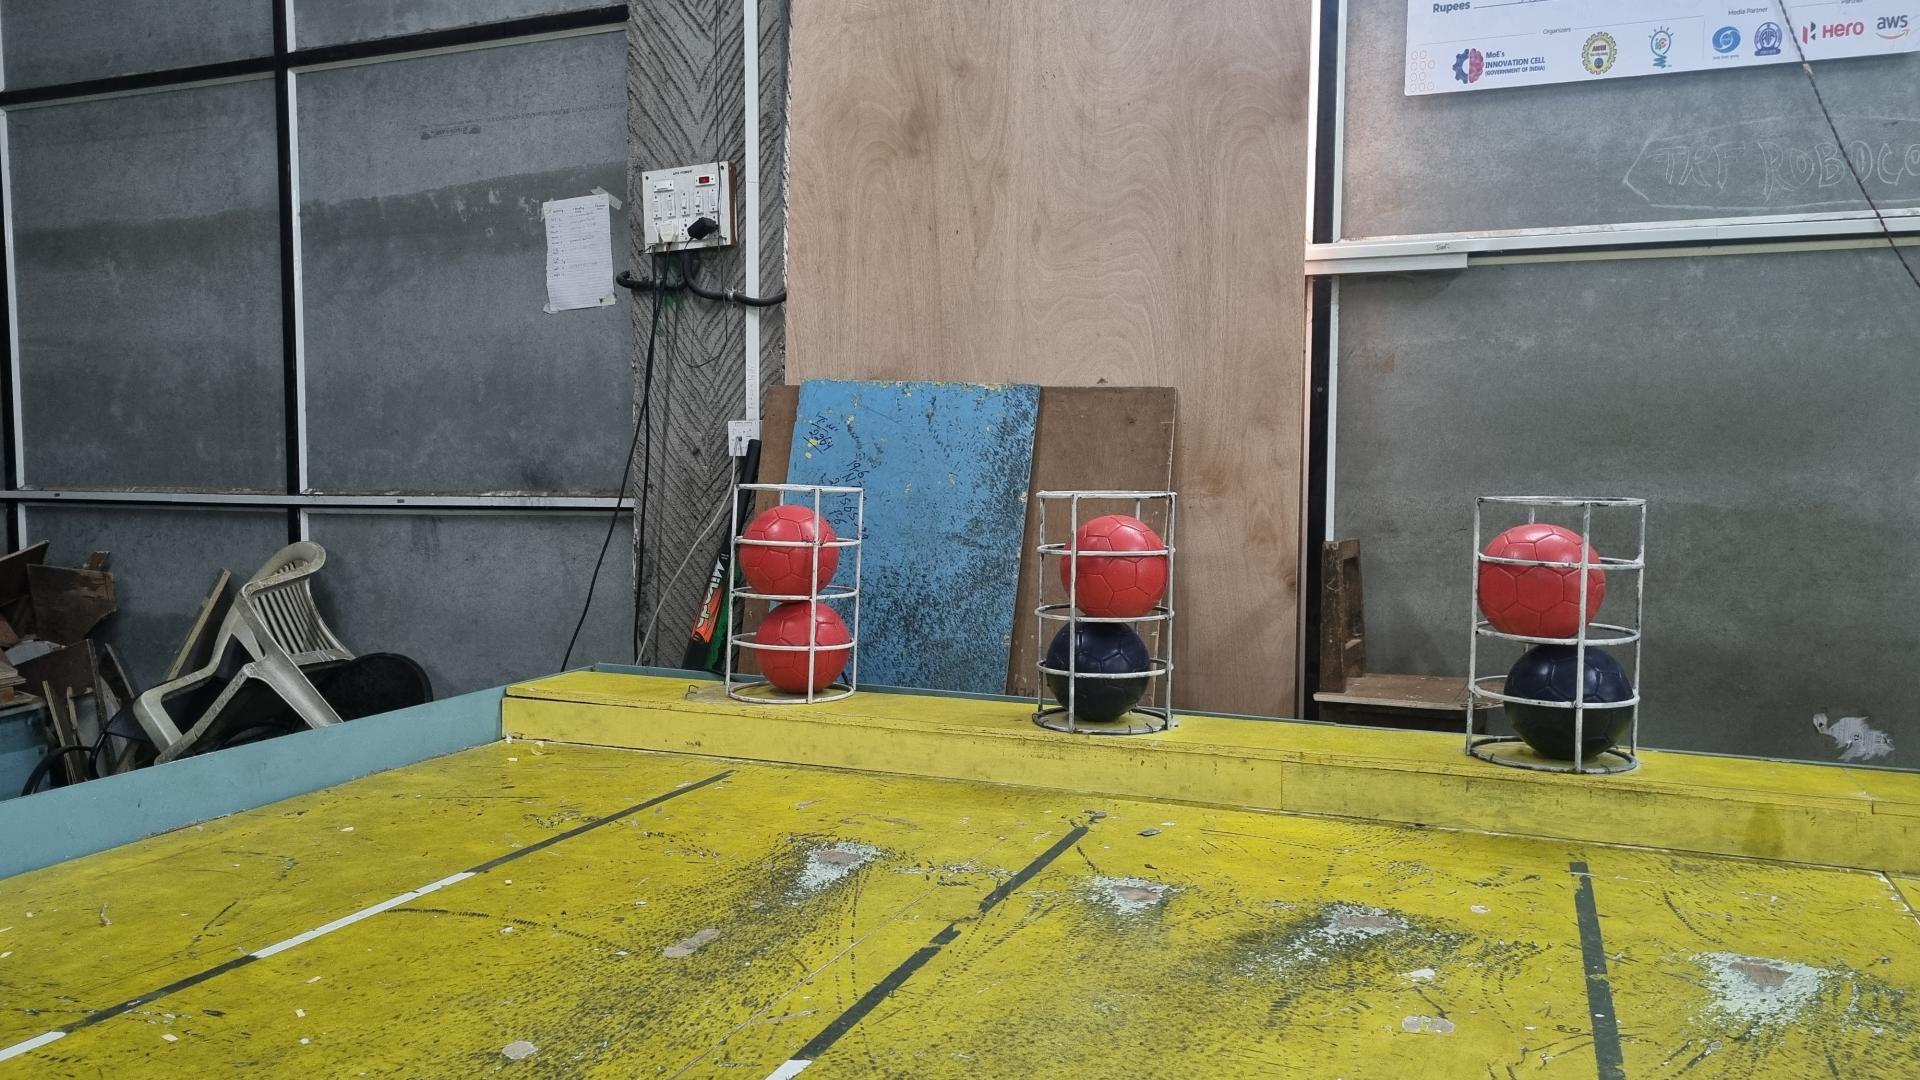dhoka: (1503, 645, 1635, 765), (1043, 622, 1151, 723)
laale: (1477, 525, 1605, 641), (1062, 513, 1170, 618), (738, 506, 840, 596), (754, 603, 852, 694)
